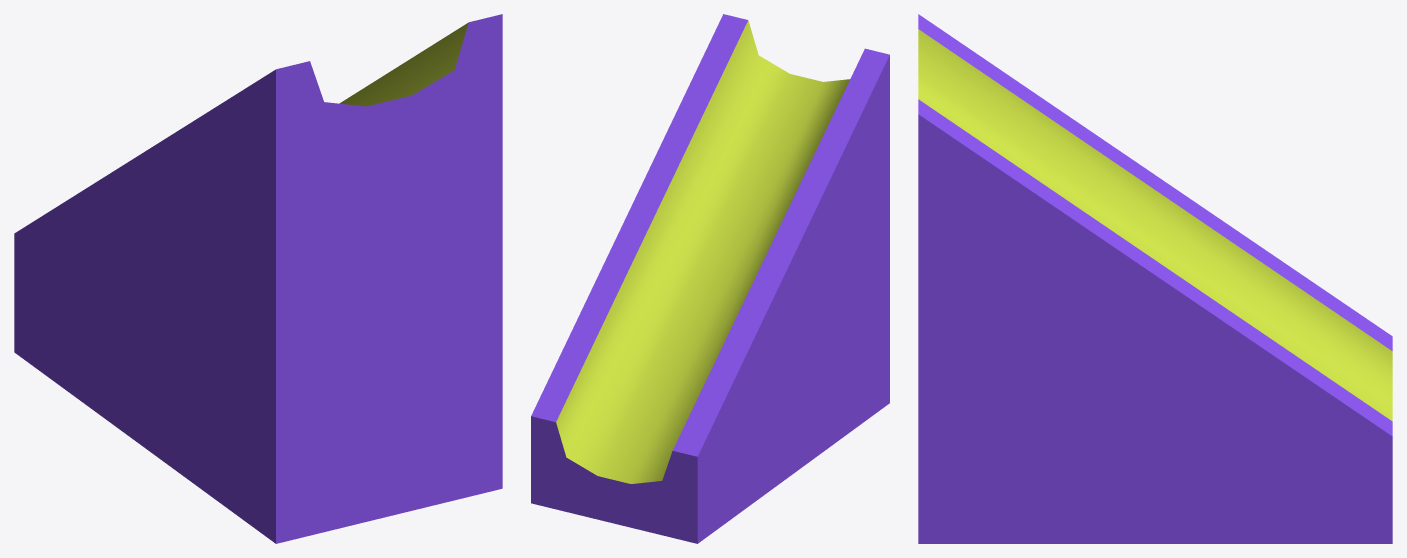
File: slant_solid_long_D.fbx
3 renders of one model, left to right at view 1: azimuth 30°, elevation 25°; view 2: azimuth 150°, elevation 25°; view 3: azimuth 270°, elevation 25°, orthographic. The views are drawn at different scales.
Parts seen in each view (by area): view 1: slant_solid_long_D; view 2: slant_solid_long_D; view 3: slant_solid_long_D.
Part boxes in pixels (x1=…): slant_solid_long_D: x1=14, y1=14, x2=502, y2=543; slant_solid_long_D: x1=531, y1=14, x2=889, y2=543; slant_solid_long_D: x1=918, y1=14, x2=1392, y2=543.
Bounding box in the file's own units: 10 × 20 × 20.
